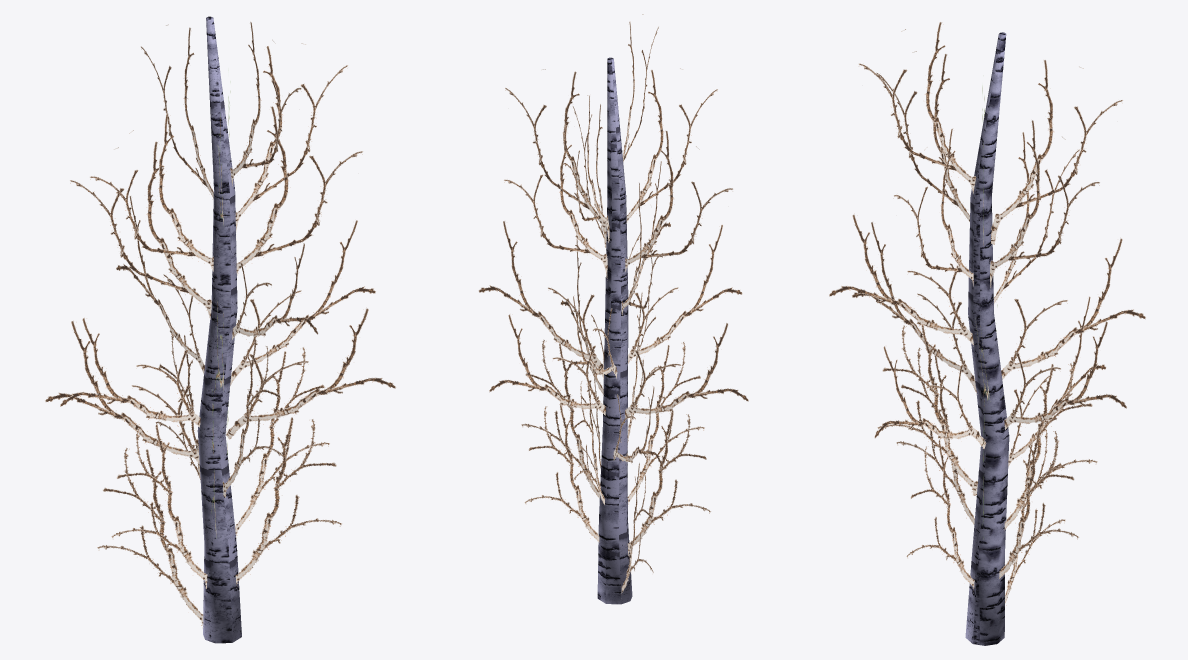
The model's file is koivu1.glb.
3 views of the same model, side by side, from view 1: azimuth 30°, elevation 25°; view 2: azimuth 150°, elevation 25°; view 3: azimuth 270°, elevation 25° (orthographic). The views are drawn at different scales.
Parts seen in each view (by area): view 1: Koivu; view 2: Koivu; view 3: Koivu.
Part boxes in pixels (x1,y1,x2,y2): Koivu: (45, 16, 396, 643); Koivu: (478, 14, 748, 604); Koivu: (829, 22, 1145, 645).
Size of the model in its own units: 23.11 by 39.69 by 20.85.
Materials: 2 (2 with a texture image).
